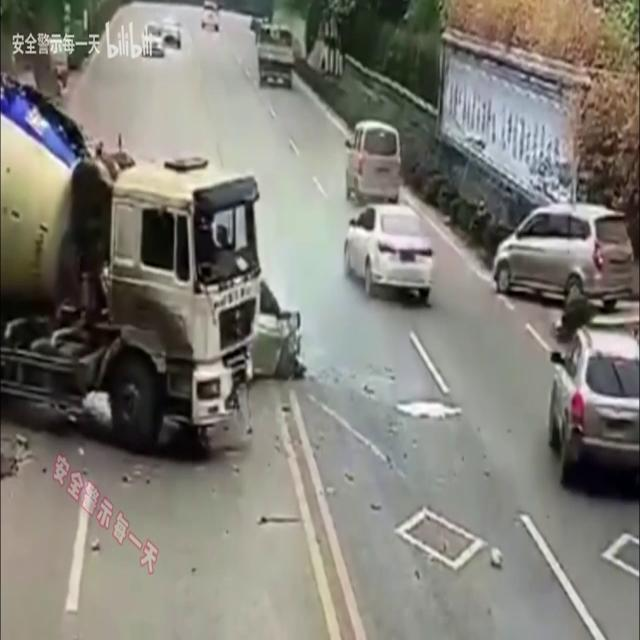multiple_accident: (0, 71, 325, 466)
